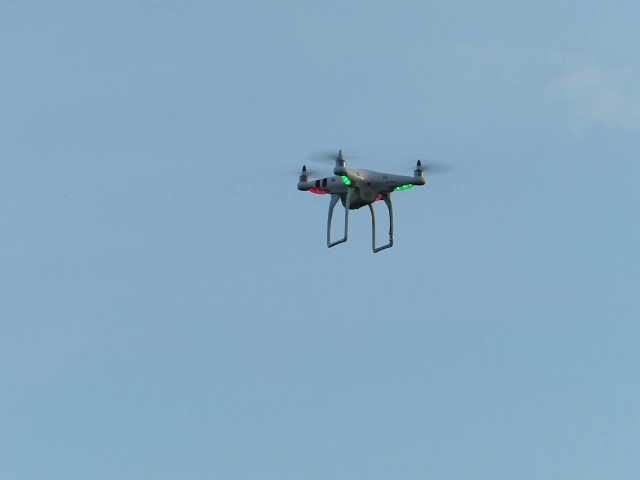drone: (286, 148, 444, 252)
